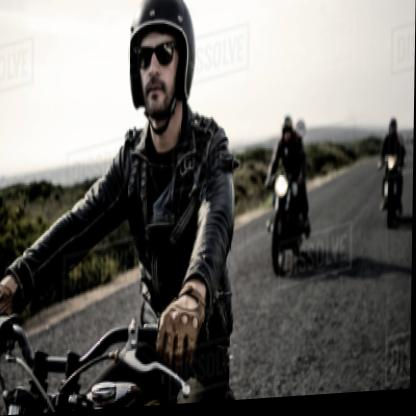With Helmet: (121, 0, 206, 135)
